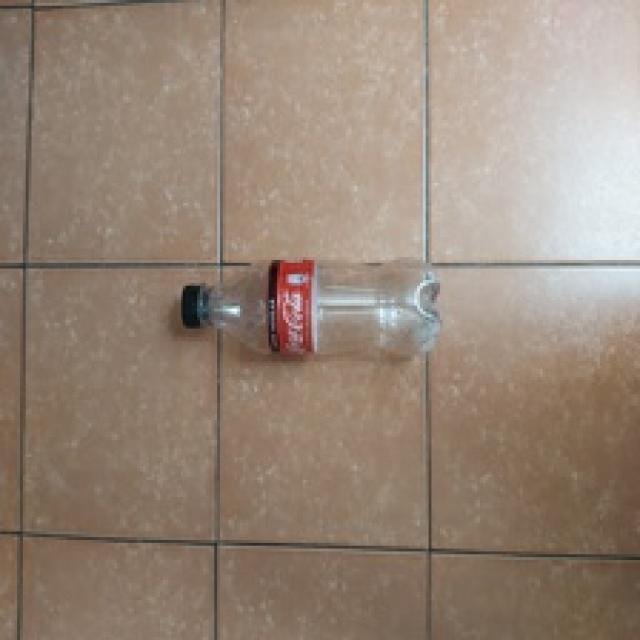Plastic: (176, 258, 447, 360)
